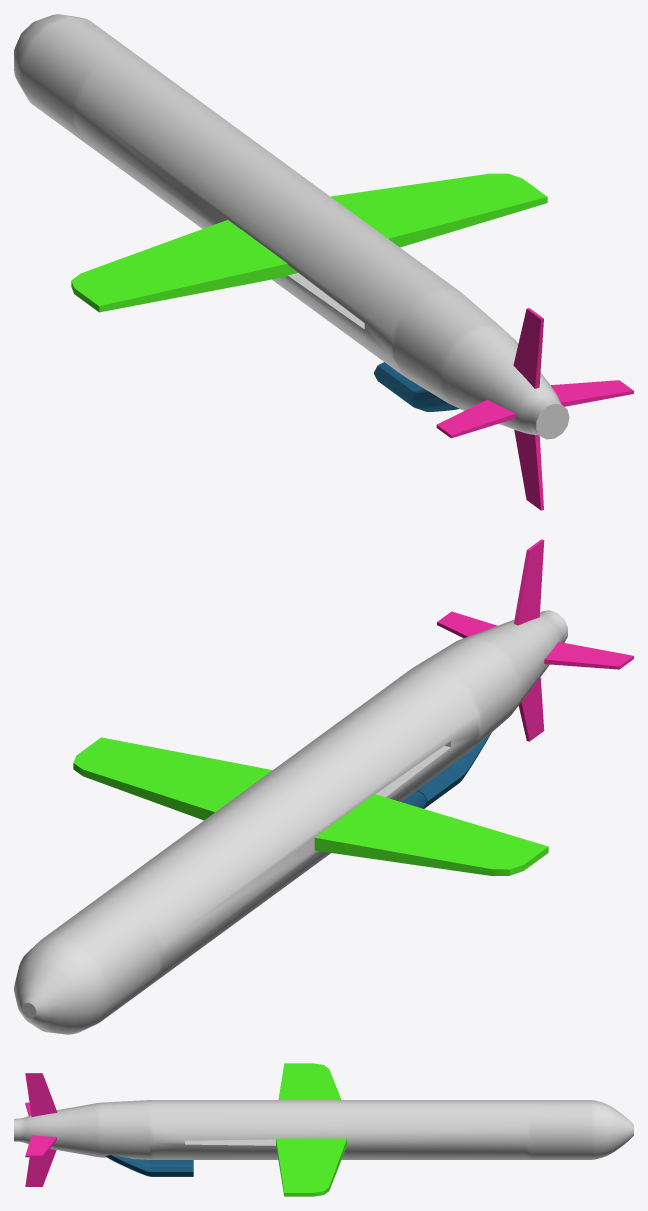
File: tomahawk.obj
3 views of the same model, one above another, from view 1: azimuth 30°, elevation 25°; view 2: azimuth 150°, elevation 25°; view 3: azimuth 270°, elevation 25° (orthographic). The views are drawn at different scales.
Visible parts, largest first — view 1: polySurface2_polySurface2; view 2: polySurface2_polySurface2; view 3: polySurface2_polySurface2.
Boxes of the visible parts, left/top/right/bottom form: polySurface2_polySurface2: left=14, top=14, right=633, bottom=510; polySurface2_polySurface2: left=14, top=539, right=633, bottom=1034; polySurface2_polySurface2: left=14, top=1063, right=633, bottom=1196.
Size of the model in its own units: 1.91 by 0.7785 by 3.86.
